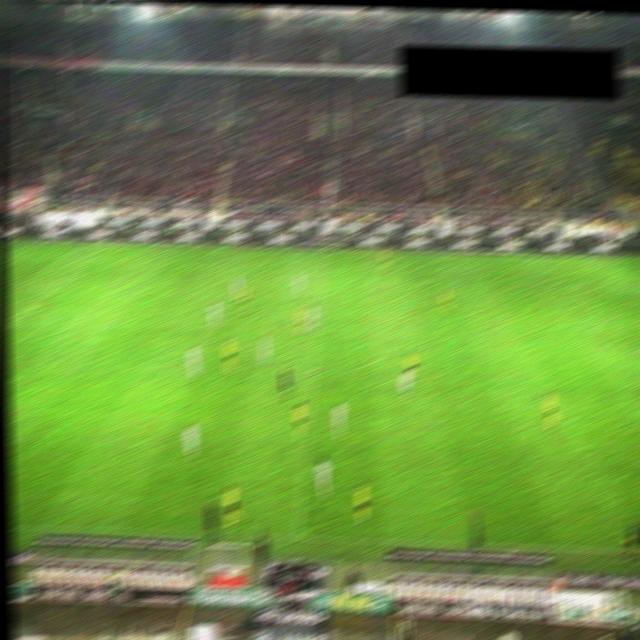bigarea_top_inner: (69, 266, 83, 279), (567, 282, 582, 292)
corner: (3, 237, 19, 247)
halfcircle_bottom: (306, 365, 321, 376)
halfcircle_top: (313, 301, 328, 313)
midline_bottom_intersection: (288, 530, 307, 546)
midline_top_intersection: (318, 246, 335, 256)
top_arc_area_intersection: (27, 298, 51, 310), (600, 316, 615, 326)
